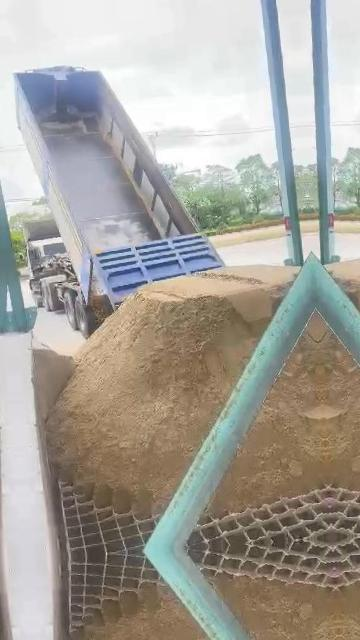sand: (48, 266, 295, 514), (212, 317, 328, 511), (33, 339, 74, 422)
